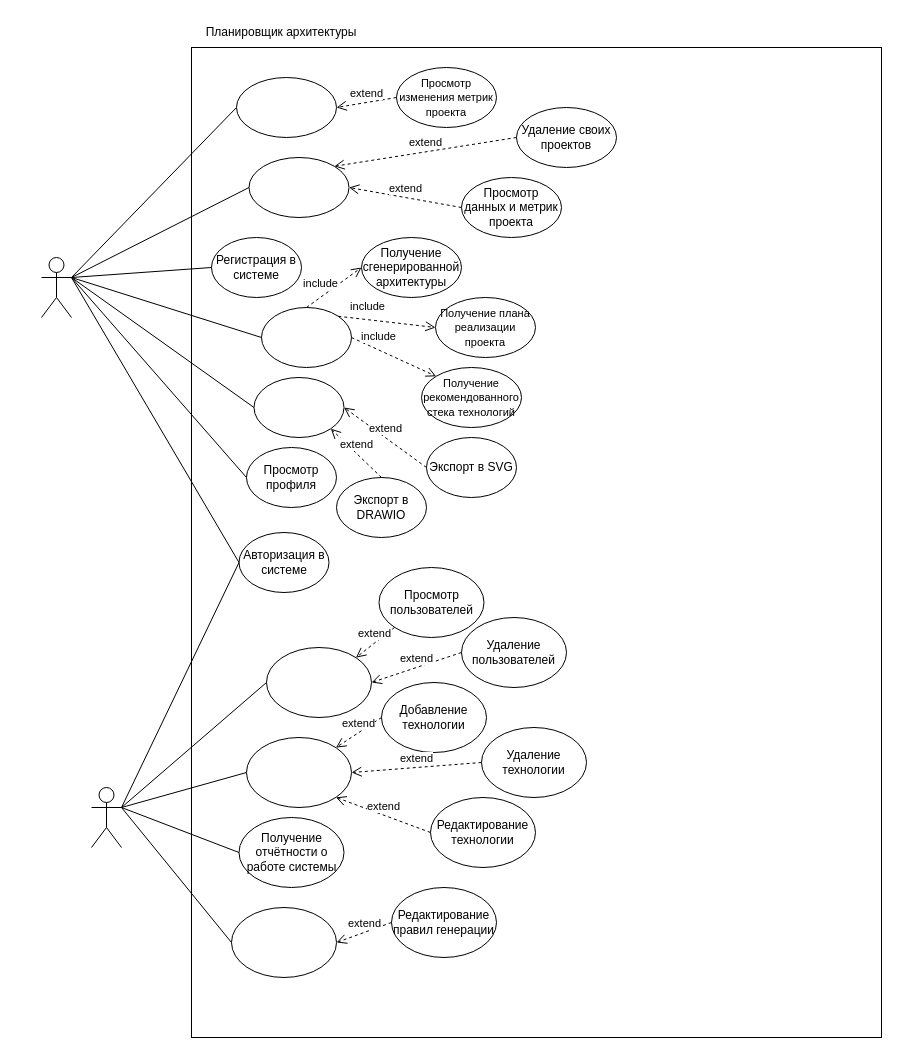
The diagram is 899 pixels wide and 1055 high, and some of its shapes have lost their labels. Each missing label, with the centre of its shape:
"Администратор" goes at pixel 106 817.
"Настройка движка генерации" goes at pixel 283 942.
"Пользователь" goes at pixel 56 287.
"Просмотр рискованных сценариев" goes at pixel 286 107.
"Просмотр своих проектов" goes at pixel 298 187.
"Прохождение опроса о продукте" goes at pixel 306 337.
"Управление каталогом технологий" goes at pixel 299 772.
"Управление пользователями" goes at pixel 319 682.
"Экспорт полученной архитектуры" goes at pixel 298 407.
